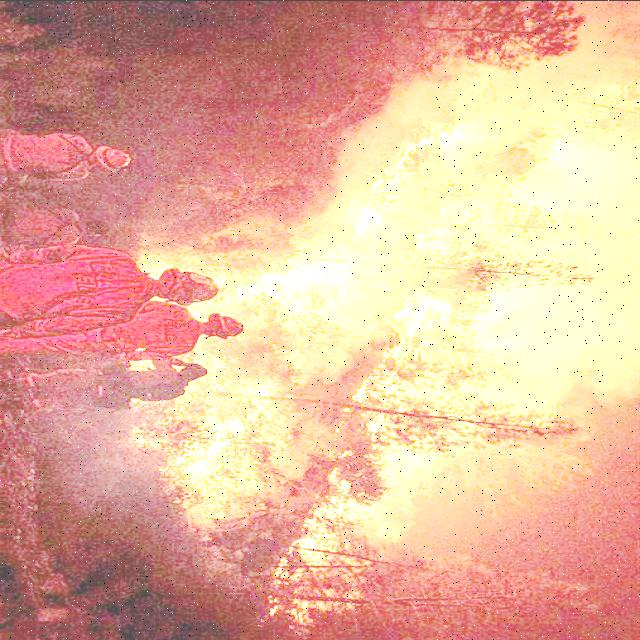api: (185, 412, 249, 477), (243, 260, 346, 297), (347, 201, 397, 239), (400, 304, 455, 335)
asap: (472, 89, 640, 467)
